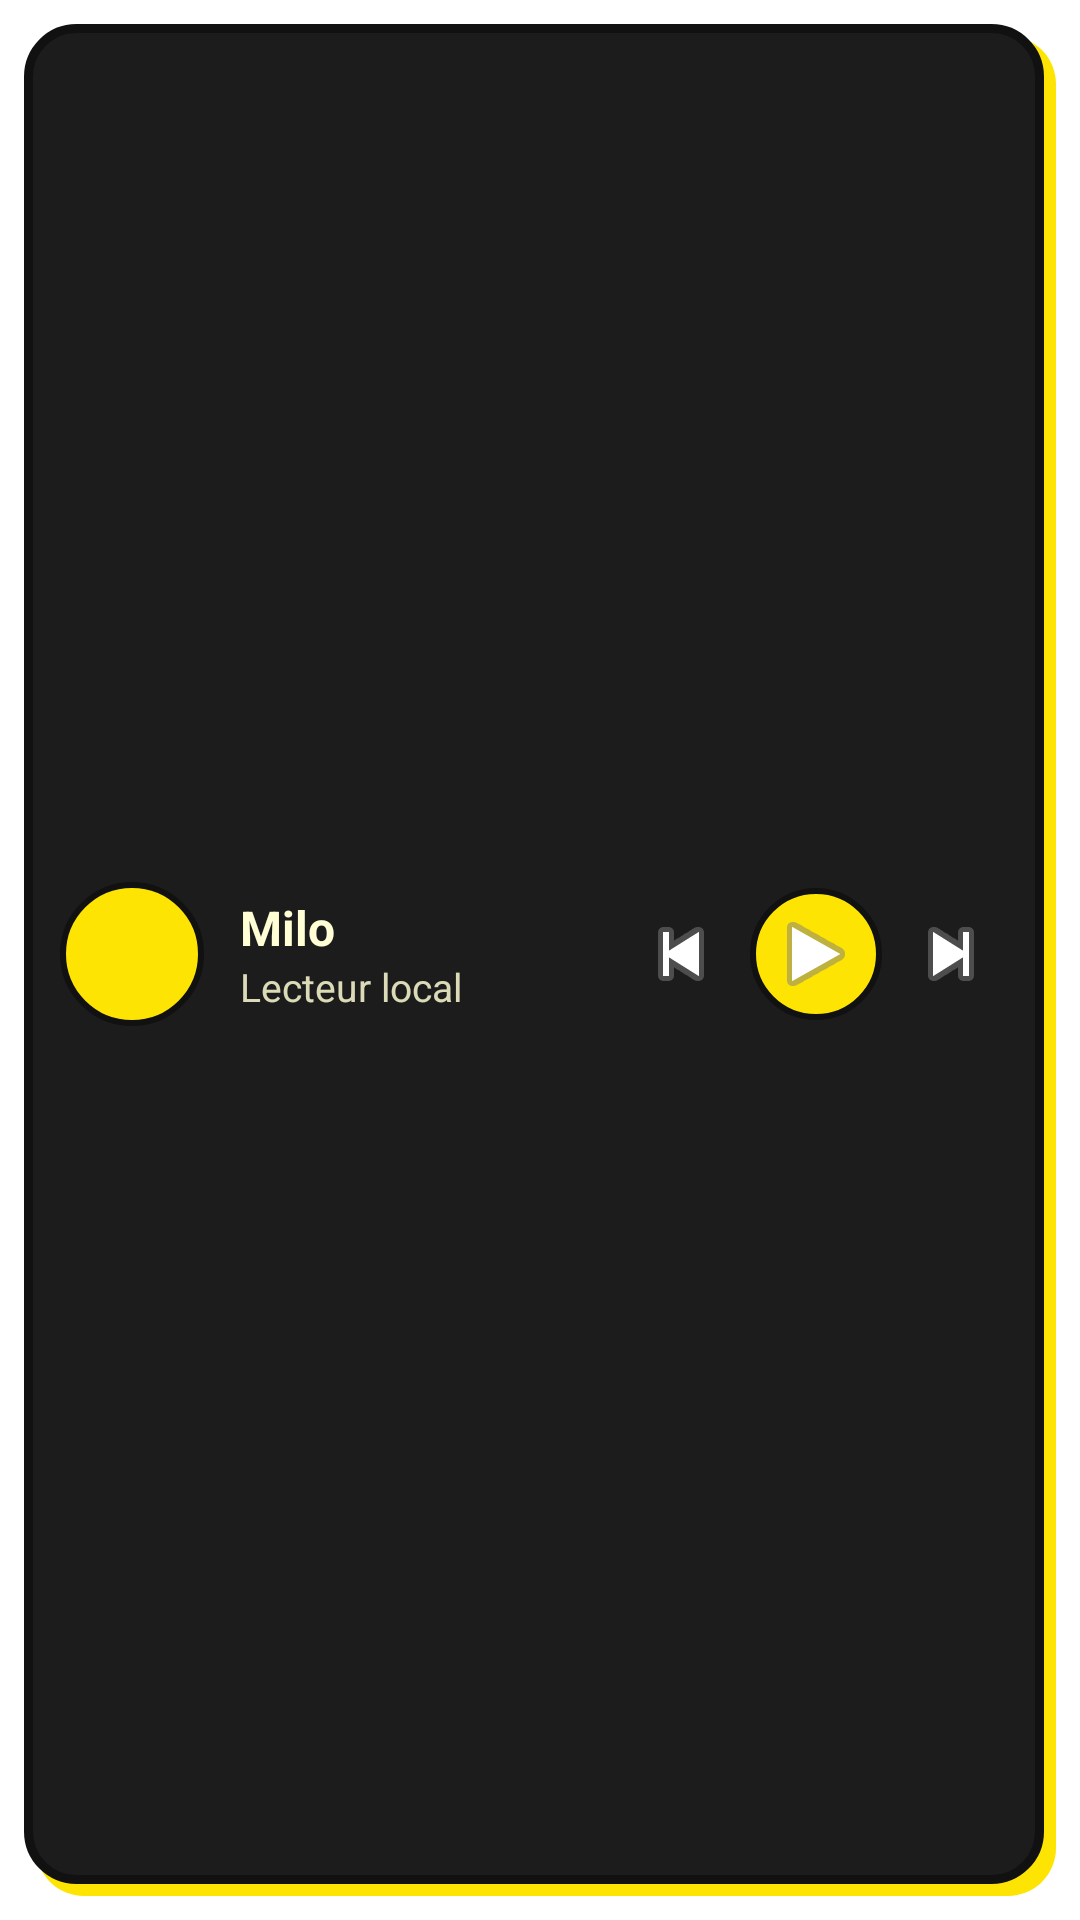

Icons on this 1080w x 1920h Android screen, each with its box as (x1, y1, x2, y2):
Lecture: (756, 894, 876, 1014)
Précédent: (658, 927, 704, 981)
Suivant: (928, 927, 974, 981)
